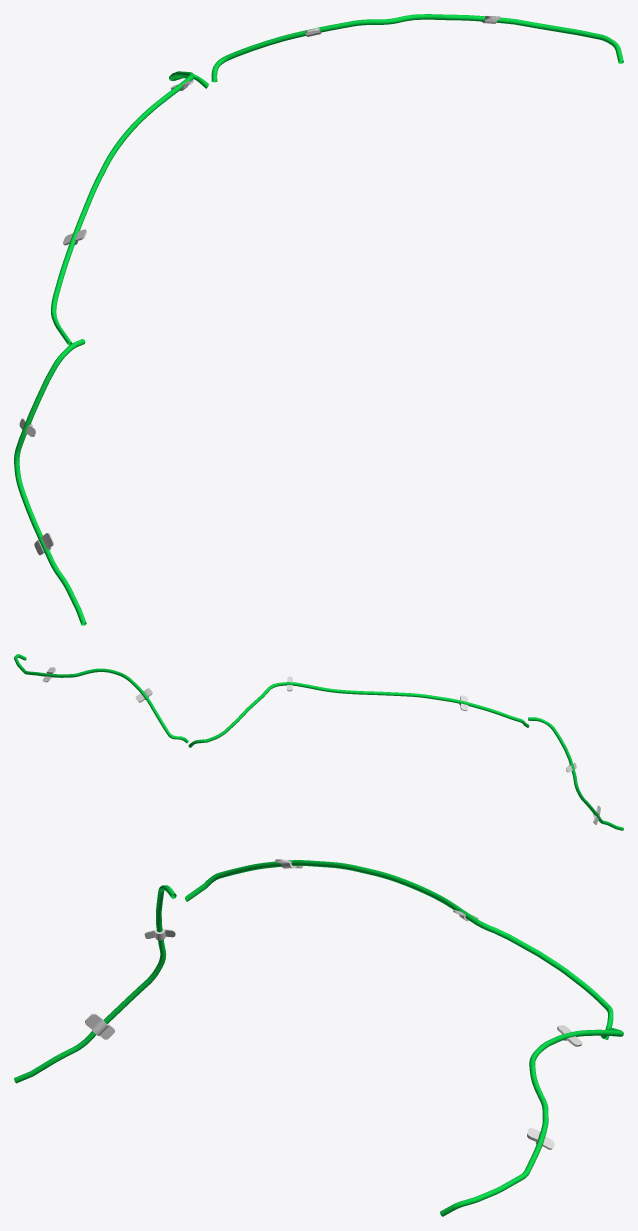
File: CablesAltavoces.fbx
The picture shows the model from 3 angles, top to bottom: view 1: azimuth 30°, elevation 25°; view 2: azimuth 150°, elevation 25°; view 3: azimuth 270°, elevation 25°; orthographic projection. The views are drawn at different scales.
Visible parts, largest first — view 1: CablHolder2; view 2: CablHolder2; view 3: CablHolder2.
Boxes of the visible parts, x1=… form: CablHolder2: x1=14, y1=14, x2=623, y2=625; CablHolder2: x1=14, y1=654, x2=623, y2=830; CablHolder2: x1=14, y1=859, x2=623, y2=1216.
Size of the model in its own units: 927 by 375 by 617.
